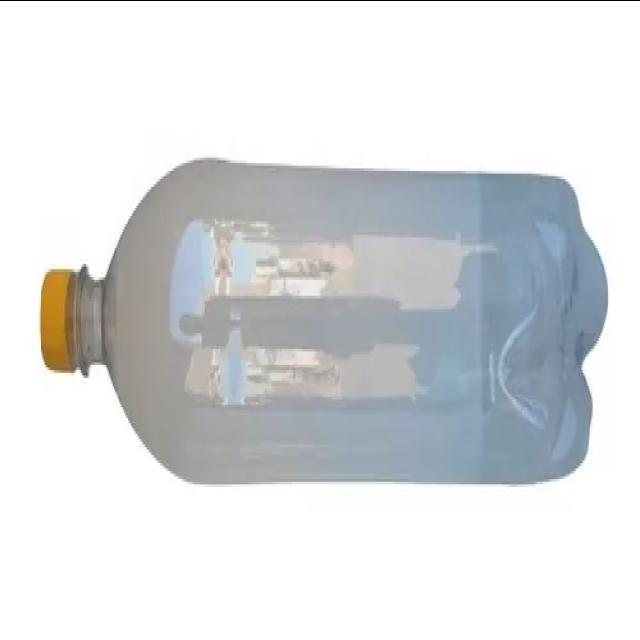bottom: (503, 132, 618, 516)
cap: (42, 211, 98, 419)
